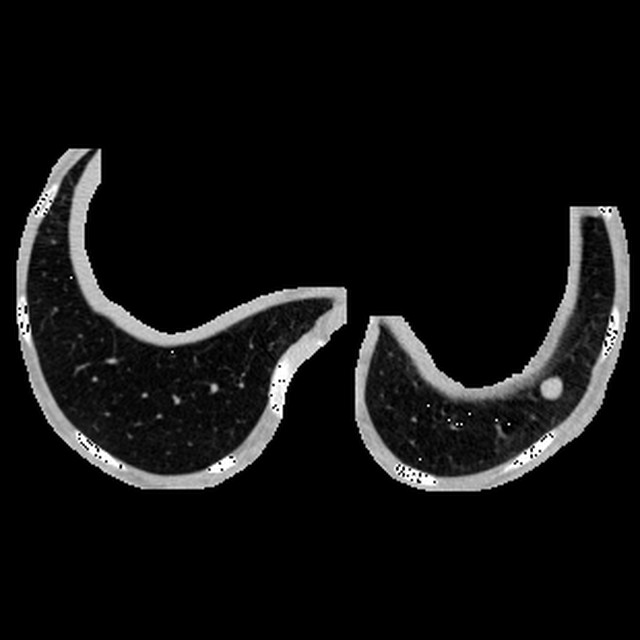PN: (539, 376, 564, 401)
